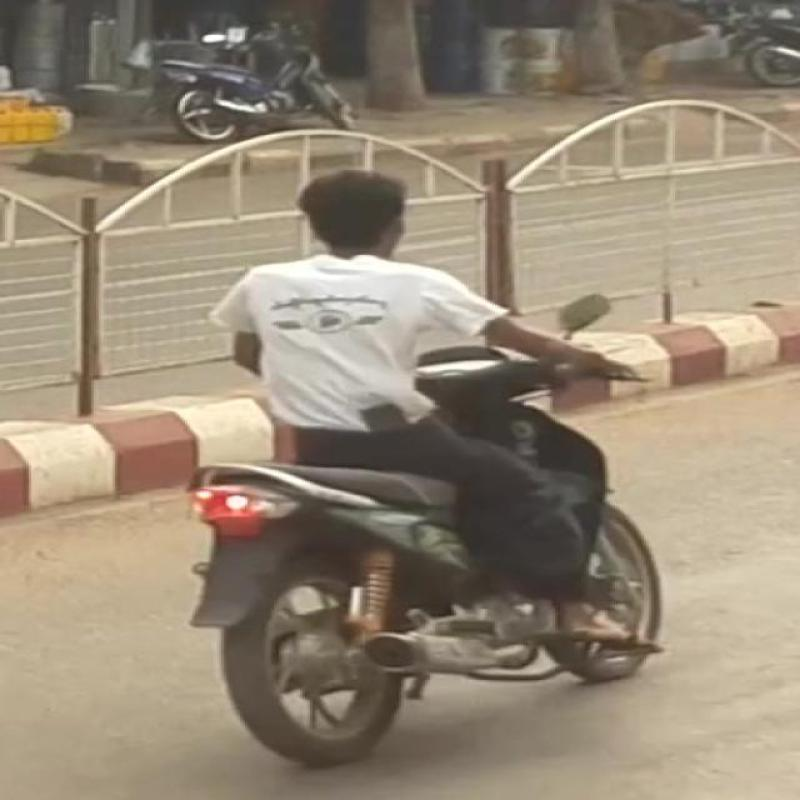nohelmet: (282, 161, 432, 263)
